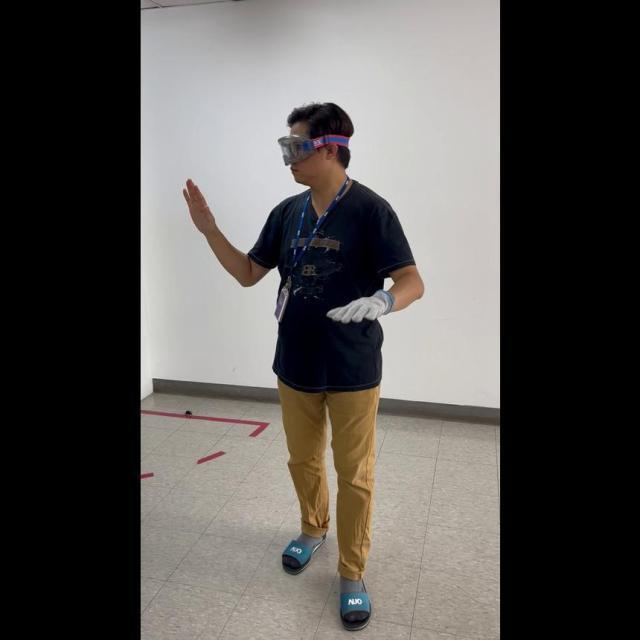bare_hand: (181, 173, 215, 237)
gloved_hand: (324, 283, 394, 328)
